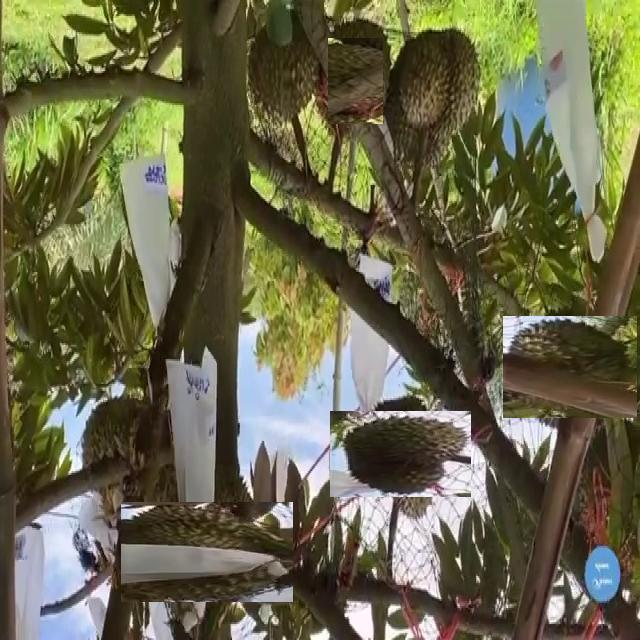durian: (139, 483, 275, 620), (74, 391, 182, 538), (383, 23, 484, 174), (511, 308, 630, 426), (343, 396, 457, 511), (299, 27, 407, 135), (246, 10, 328, 133), (385, 42, 467, 124)
